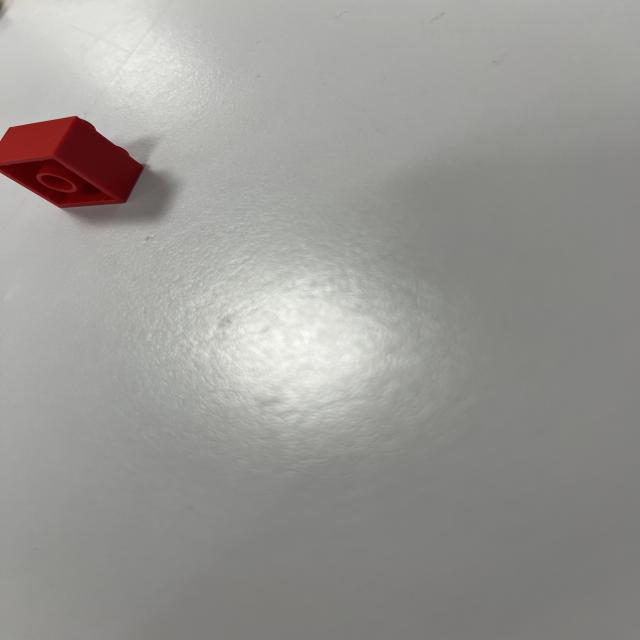C2x2x1: (0, 115, 148, 212)
